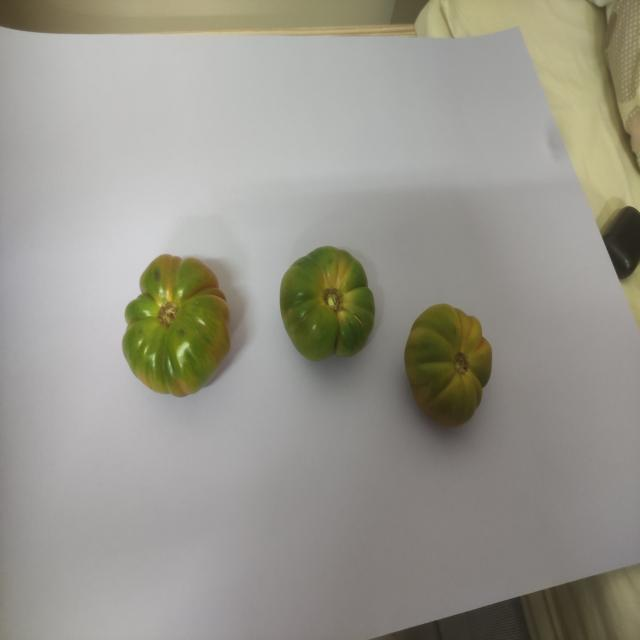unripe tomato: (114, 237, 249, 403), (264, 227, 386, 363), (393, 280, 503, 430)
